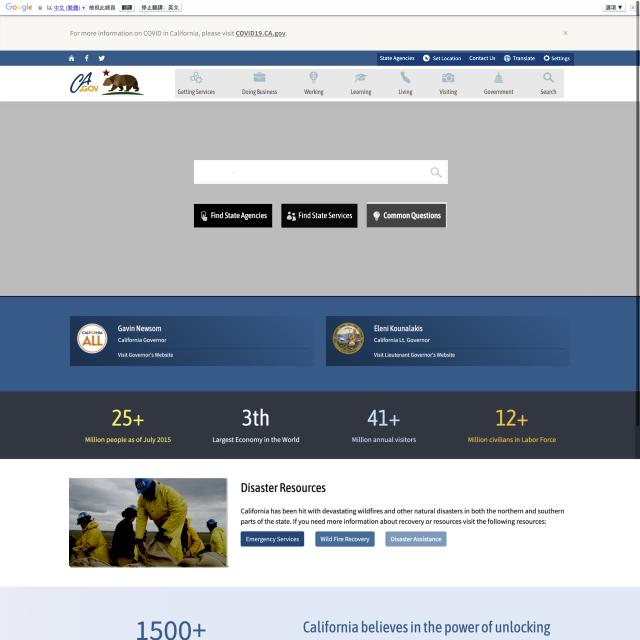CheckBox: (367, 202, 447, 228), (194, 202, 272, 228), (283, 204, 358, 228), (241, 530, 304, 546), (386, 531, 447, 547), (316, 531, 374, 546)
CheckedTextView: (194, 160, 448, 184)
ProgressBar: (0, 16, 640, 50), (0, 0, 636, 15)
QR code: (0, 391, 635, 459)
copy: (70, 478, 230, 566)
date picker: (68, 70, 146, 98)
decoration: (175, 69, 564, 98), (377, 53, 574, 66)
footer: (196, 167, 254, 177)
